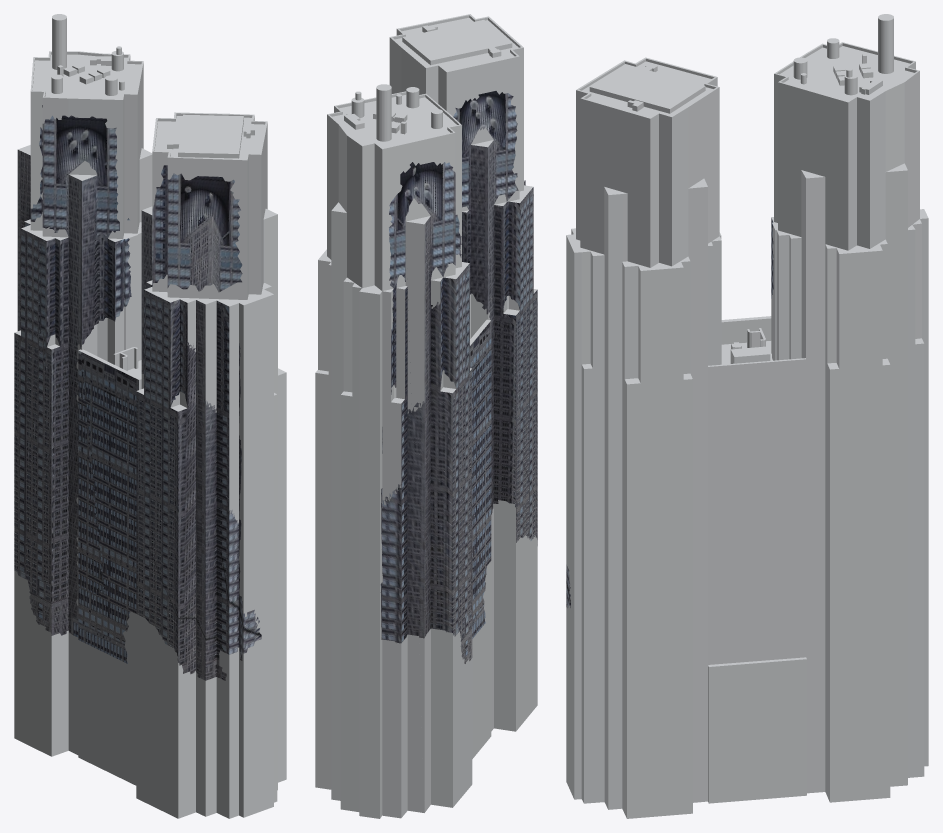
The model's file is external.glb.
3 views of the same model, side by side, from view 1: azimuth 30°, elevation 25°; view 2: azimuth 150°, elevation 25°; view 3: azimuth 270°, elevation 25° (orthographic). The views are drawn at different scales.
Visible parts, largest first — view 1: 東京都庁第一本庁舎; view 2: 東京都庁第一本庁舎; view 3: 東京都庁第一本庁舎.
Boxes of the visible parts, x1,y1,x2,y2 form: 東京都庁第一本庁舎: (14, 14, 286, 818); 東京都庁第一本庁舎: (315, 14, 537, 818); 東京都庁第一本庁舎: (566, 14, 928, 818).
Bounding box in the file's own units: 63.15 × 261 × 115.
3 materials, 2 textured.
